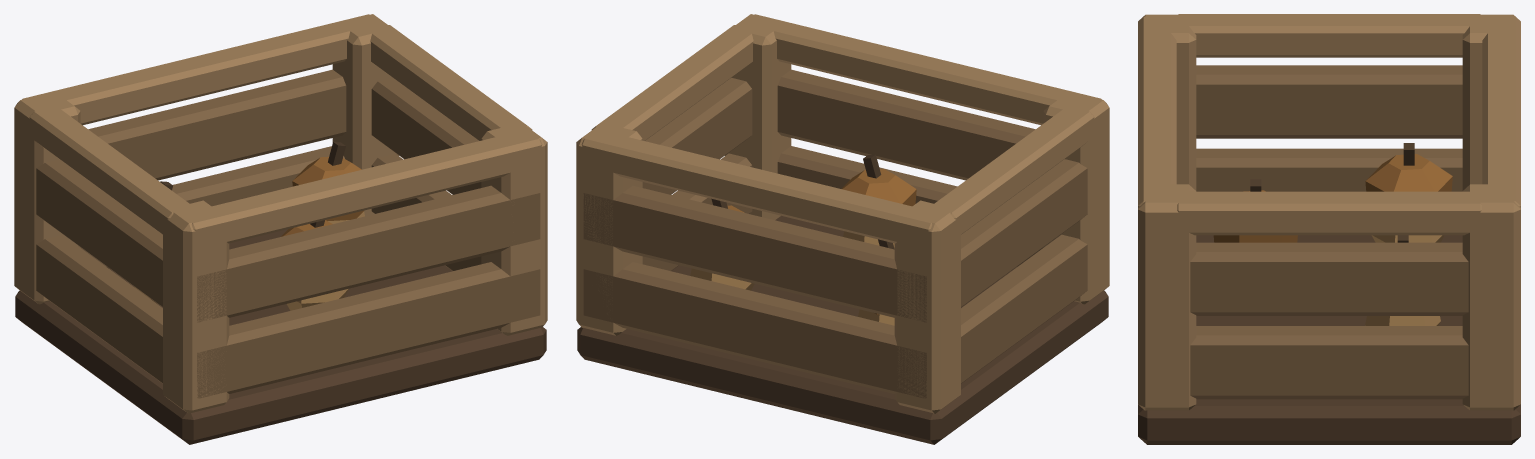
The model's file is oak_acorn_low.glb.
3 renders of one model, left to right at view 1: azimuth 30°, elevation 25°; view 2: azimuth 150°, elevation 25°; view 3: azimuth 270°, elevation 25°, orthographic. The views are drawn at different scales.
Parts seen in each view (by area): view 1: oak_acorn_low; view 2: oak_acorn_low; view 3: oak_acorn_low.
Boxes of the visible parts, box(x1,y1,x2,y2) form: oak_acorn_low: box(14, 14, 547, 444); oak_acorn_low: box(576, 14, 1109, 444); oak_acorn_low: box(1138, 14, 1520, 444).
Size of the model in its own units: 0.75 by 0.4375 by 0.625.
